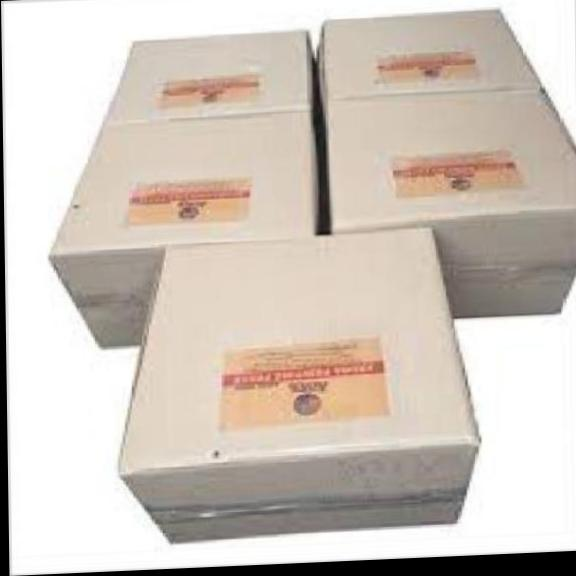Kertas: (117, 230, 485, 540), (119, 230, 478, 542), (50, 109, 328, 354), (328, 87, 576, 327), (320, 11, 542, 101), (104, 29, 315, 120)
